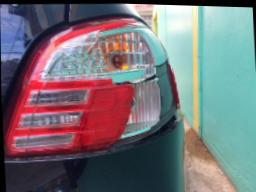Light: (6, 17, 191, 150)
